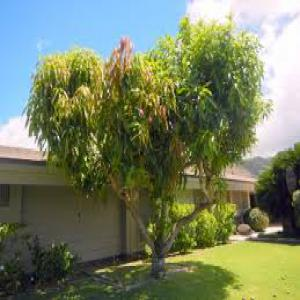Tree: (24, 14, 272, 280)
